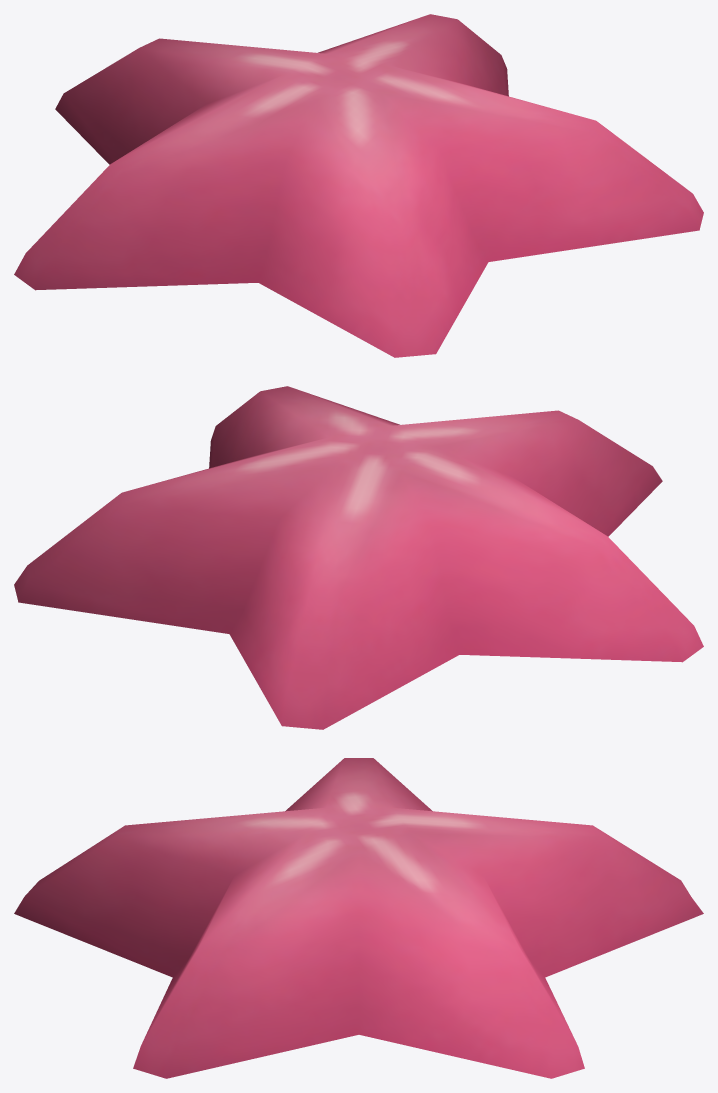
Rendered from Beach_star_02.fbx.
3 views of the same model, one above another, from view 1: azimuth 30°, elevation 25°; view 2: azimuth 150°, elevation 25°; view 3: azimuth 270°, elevation 25° (orthographic). The views are drawn at different scales.
Parts seen in each view (by area): view 1: Beach_star_02; view 2: Beach_star_02; view 3: Beach_star_02.
Boxes of the visible parts, <box> form: Beach_star_02: <box>14,14,703,357</box>; Beach_star_02: <box>14,386,703,729</box>; Beach_star_02: <box>14,758,703,1078</box>.
Bounding box in the file's own units: 49.18 × 10.36 × 51.71.
